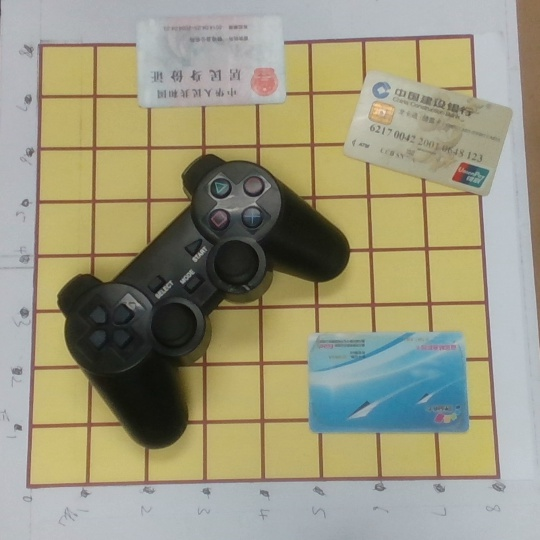card: (344, 69, 513, 199), (305, 325, 470, 437), (135, 13, 288, 110)
remote: (60, 150, 349, 448)
